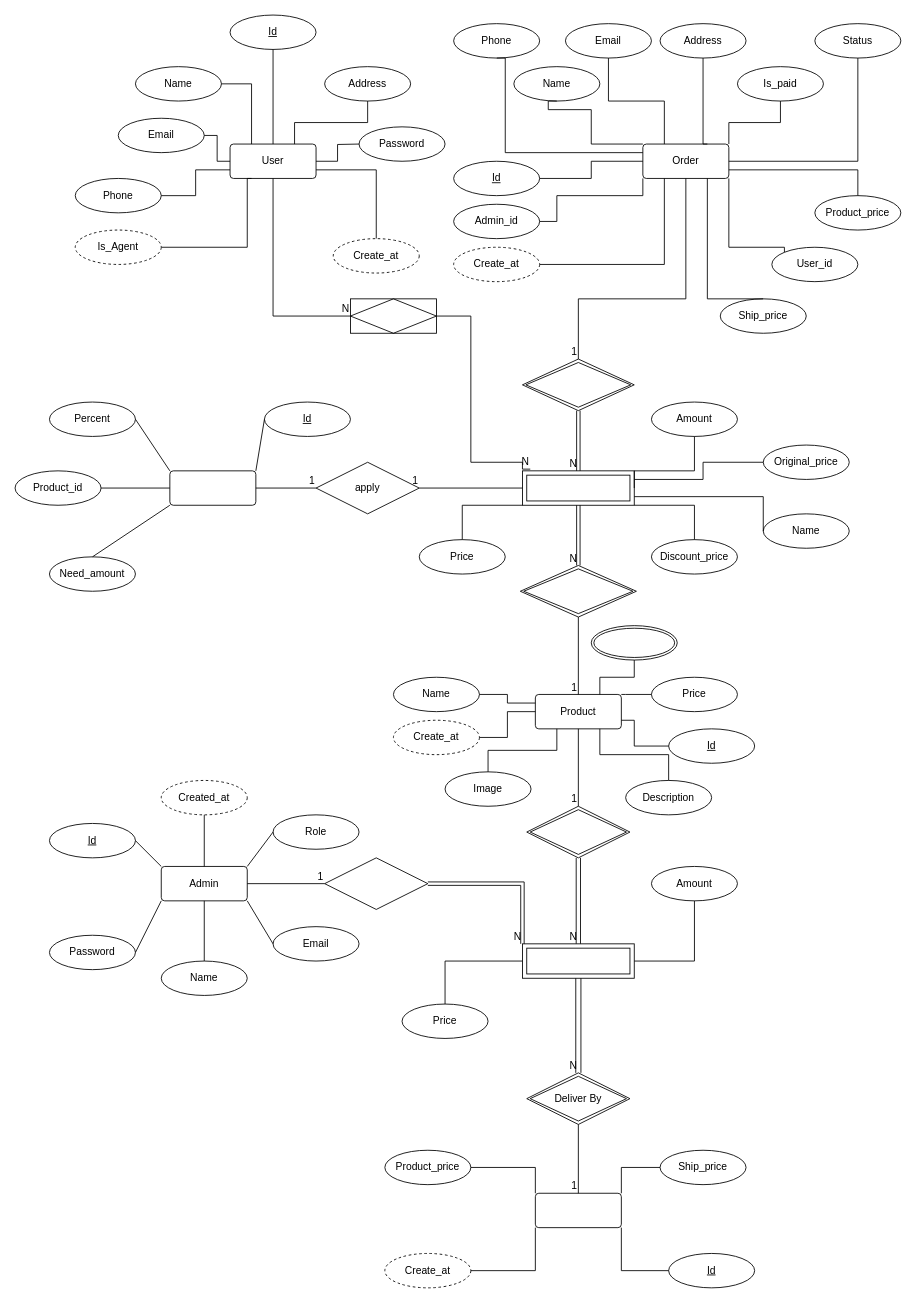
The diagram is 916 pixels wide and 1303 high, and some of its shapes have lost their labels. Here are the shapes that lost their labels. From the top down, the box of each, then its label:
(350, 298, 436, 333): Placing Order
(522, 358, 634, 411): In
(169, 470, 256, 505): Discounts
(522, 470, 634, 505): Order_Product
(519, 565, 636, 617): Have
(590, 625, 677, 660): Category
(526, 805, 630, 858): Got From
(324, 857, 428, 909): Manage
(522, 943, 634, 978): Import_product
(534, 1192, 621, 1228): imports
